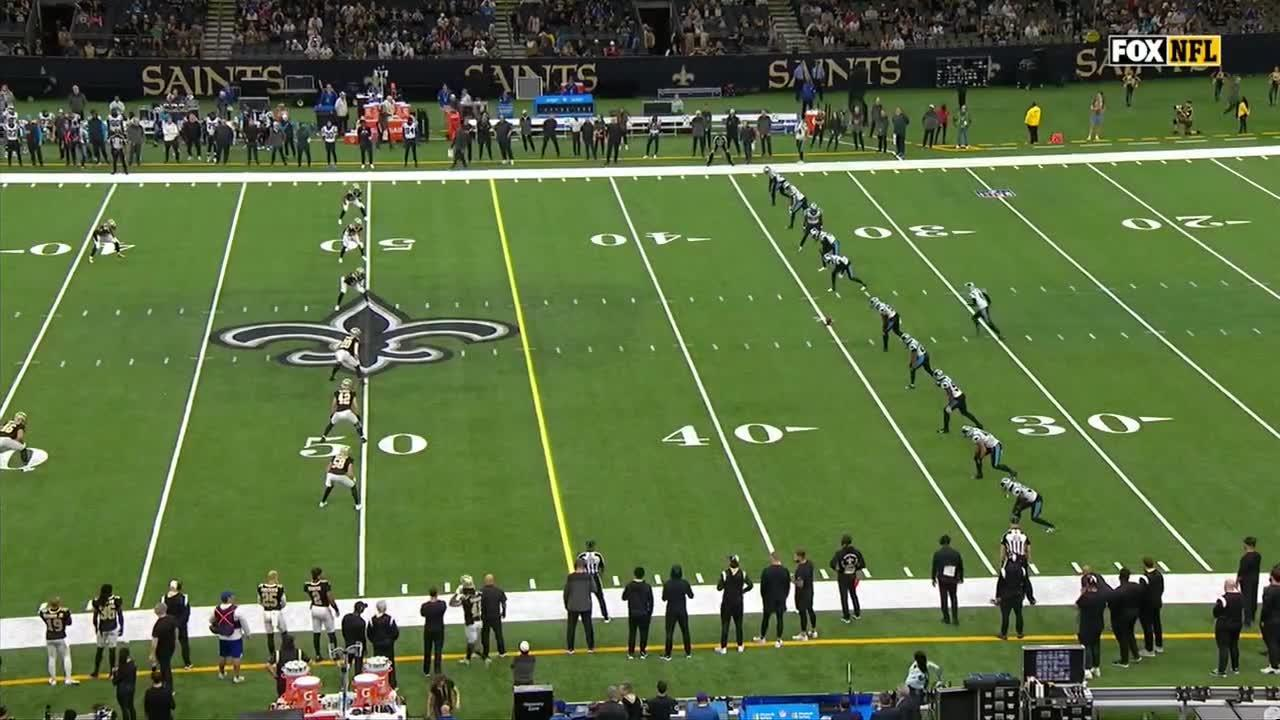20R: (1122, 215, 1252, 230)
30R: (1010, 412, 1174, 438), (854, 226, 976, 239)
40L: (0, 241, 134, 258)
40R: (662, 422, 820, 448), (590, 231, 711, 248)
50: (298, 433, 428, 458), (322, 238, 416, 253)
